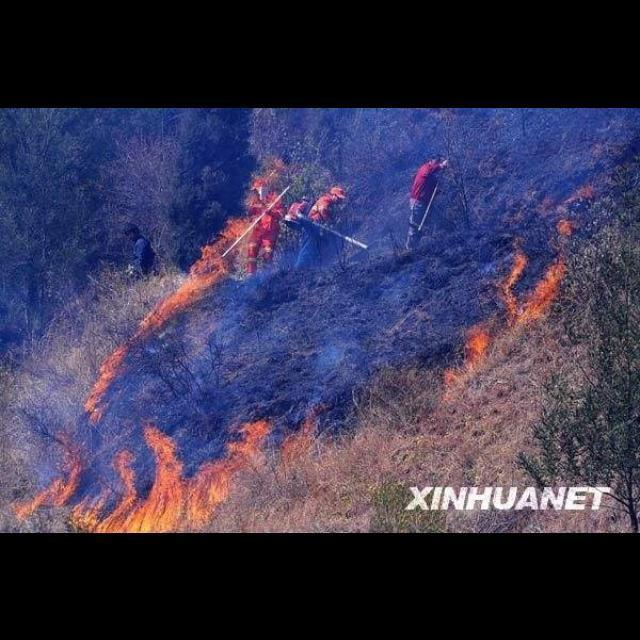Fire: (9, 213, 270, 533), (442, 218, 572, 384)
